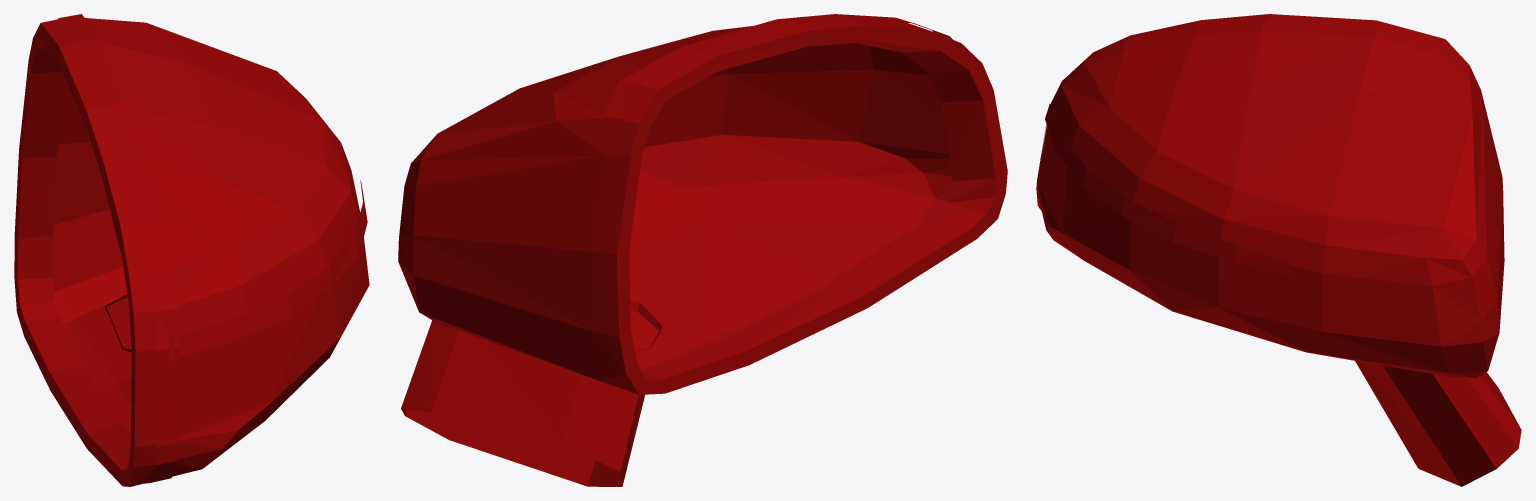
The model's file is sidem1.002.dae.
The picture shows the model from 3 angles, left to right: view 1: azimuth 30°, elevation 25°; view 2: azimuth 150°, elevation 25°; view 3: azimuth 270°, elevation 25°; orthographic projection. The views are drawn at different scales.
Parts seen in each view (by area): view 1: sidem1; view 2: sidem1; view 3: sidem1.
Part boxes in pixels (<box>): sidem1: <box>14,14,369,486</box>; sidem1: <box>398,14,1007,486</box>; sidem1: <box>1036,14,1521,486</box>.
Bounding box in the file's own units: 19.79 × 23.72 × 21.63.
